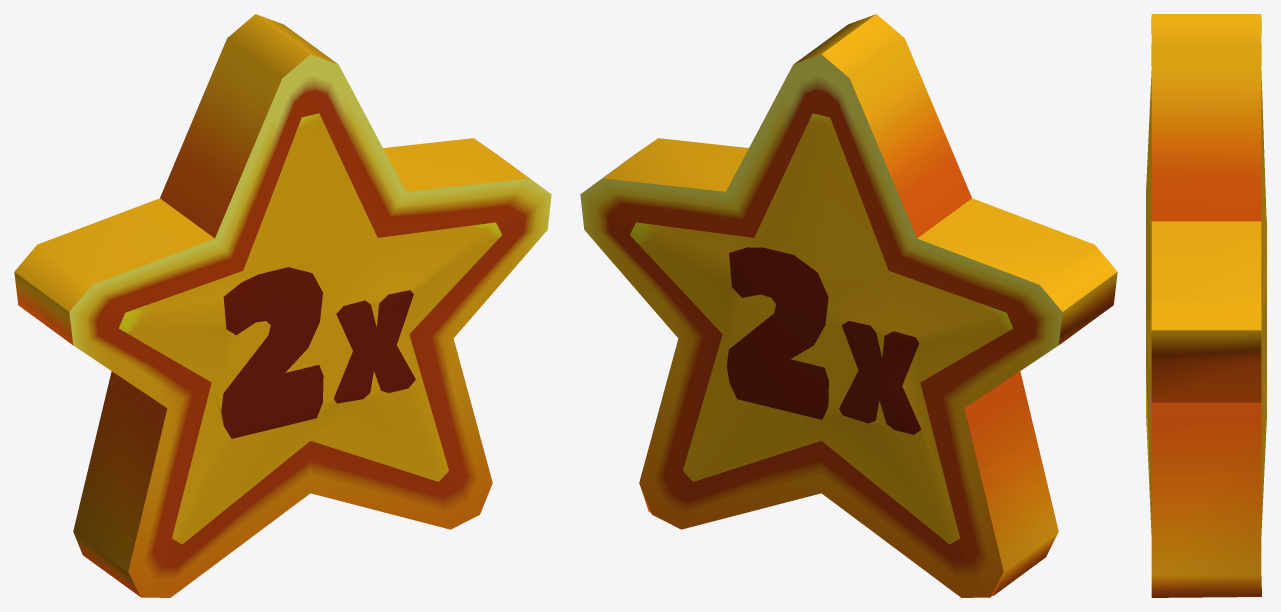
The model's file is Multiplier.glb.
The picture shows the model from 3 angles, left to right: view 1: azimuth 30°, elevation 25°; view 2: azimuth 150°, elevation 25°; view 3: azimuth 270°, elevation 25°; orthographic projection.
Parts seen in each view (by area): view 1: Object_2; view 2: Object_2; view 3: Object_2.
Part boxes in pixels (x1=…): Object_2: x1=14, y1=14, x2=551, y2=597; Object_2: x1=580, y1=14, x2=1117, y2=597; Object_2: x1=1146, y1=14, x2=1266, y2=597.
Size of the model in its own units: 7.17 by 7.24 by 1.56.
1 material, 1 textured.
